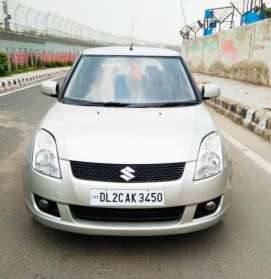nameplate: (91, 189, 164, 207)
